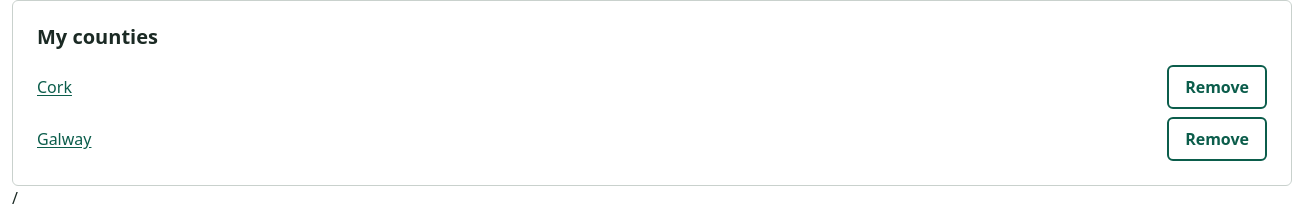
FavouriteCounties › removes a county from the list when its Remove button is pressed
The image size is (1292, 221).
Click the button with aria-label "Remove Cork" at (1217, 87), box [1167,65,1267,109]
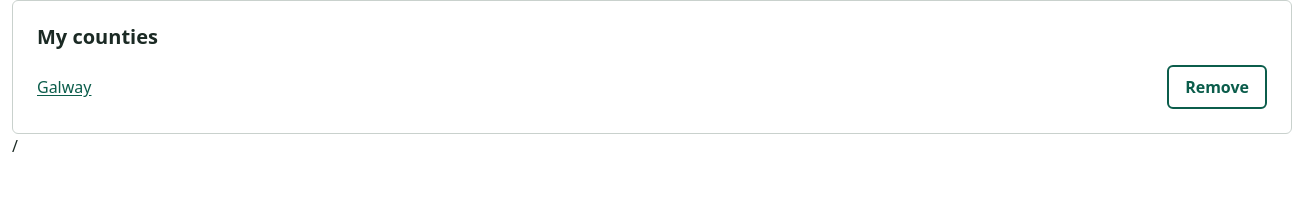
Result: the link "Cork" is gone
Result: the number of list items is 1 at [37,65,1267,109]
